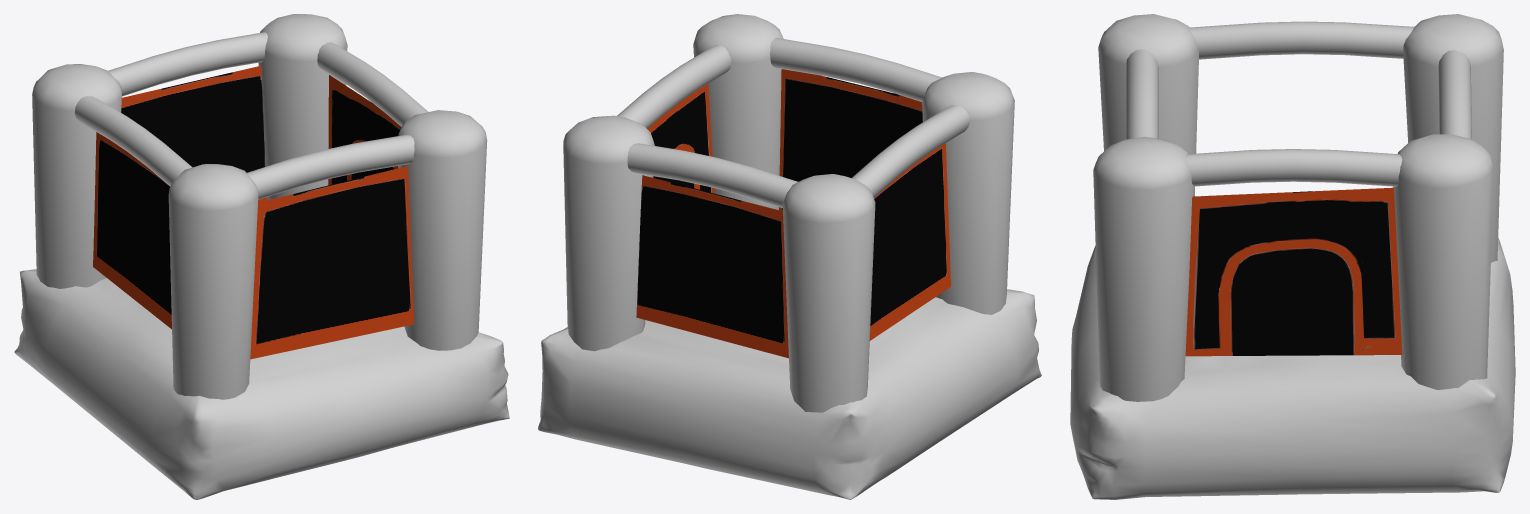
Rendered from Gonflable carré.fbx.
The picture shows the model from 3 angles, left to right: view 1: azimuth 30°, elevation 25°; view 2: azimuth 150°, elevation 25°; view 3: azimuth 270°, elevation 25°; orthographic projection. The views are drawn at different scales.
Visible parts, largest first — view 1: uploads_files_2009372_Playground_Trampoline_Tower_Low, uploads_files_2009372_Playground_Trampoline_Mat_Low, uploads_files_2009372_Playground_Trampoline_Alpha, uploads_files_2009372_Playground_Trampoline_Cylinders_Low; view 2: uploads_files_2009372_Playground_Trampoline_Tower_Low, uploads_files_2009372_Playground_Trampoline_Mat_Low, uploads_files_2009372_Playground_Trampoline_Alpha, uploads_files_2009372_Playground_Trampoline_Cylinders_Low; view 3: uploads_files_2009372_Playground_Trampoline_Tower_Low, uploads_files_2009372_Playground_Trampoline_Mat_Low, uploads_files_2009372_Playground_Trampoline_Alpha, uploads_files_2009372_Playground_Trampoline_Cylinders_Low.
Boxes of the visible parts, bbox=[...] form: uploads_files_2009372_Playground_Trampoline_Tower_Low: bbox=[32, 14, 487, 399]; uploads_files_2009372_Playground_Trampoline_Mat_Low: bbox=[14, 269, 509, 499]; uploads_files_2009372_Playground_Trampoline_Alpha: bbox=[93, 66, 413, 359]; uploads_files_2009372_Playground_Trampoline_Cylinders_Low: bbox=[74, 32, 428, 199]; uploads_files_2009372_Playground_Trampoline_Tower_Low: bbox=[563, 14, 1014, 412]; uploads_files_2009372_Playground_Trampoline_Mat_Low: bbox=[538, 289, 1041, 499]; uploads_files_2009372_Playground_Trampoline_Alpha: bbox=[636, 69, 950, 358]; uploads_files_2009372_Playground_Trampoline_Cylinders_Low: bbox=[617, 38, 969, 208]; uploads_files_2009372_Playground_Trampoline_Tower_Low: bbox=[1093, 14, 1503, 401]; uploads_files_2009372_Playground_Trampoline_Mat_Low: bbox=[1070, 238, 1515, 499]; uploads_files_2009372_Playground_Trampoline_Alpha: bbox=[1185, 187, 1402, 356]; uploads_files_2009372_Playground_Trampoline_Cylinders_Low: bbox=[1126, 21, 1471, 186].
Bounding box in the file's own units: 200 × 172 × 208.
